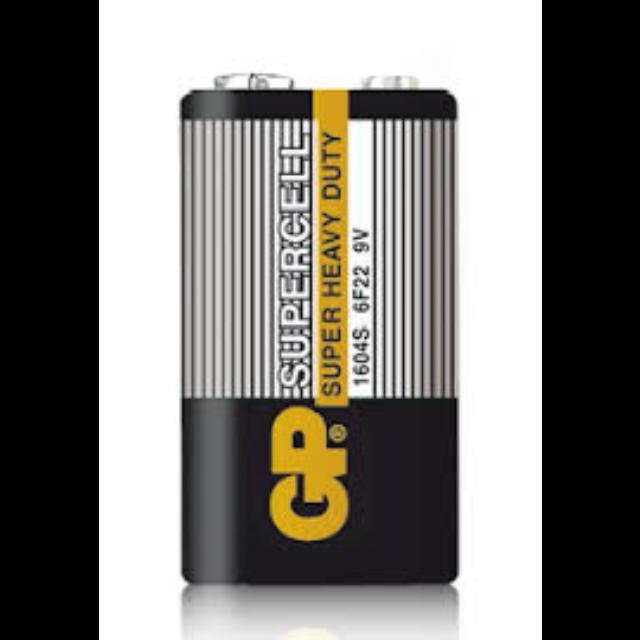Battery: (179, 73, 458, 588)
